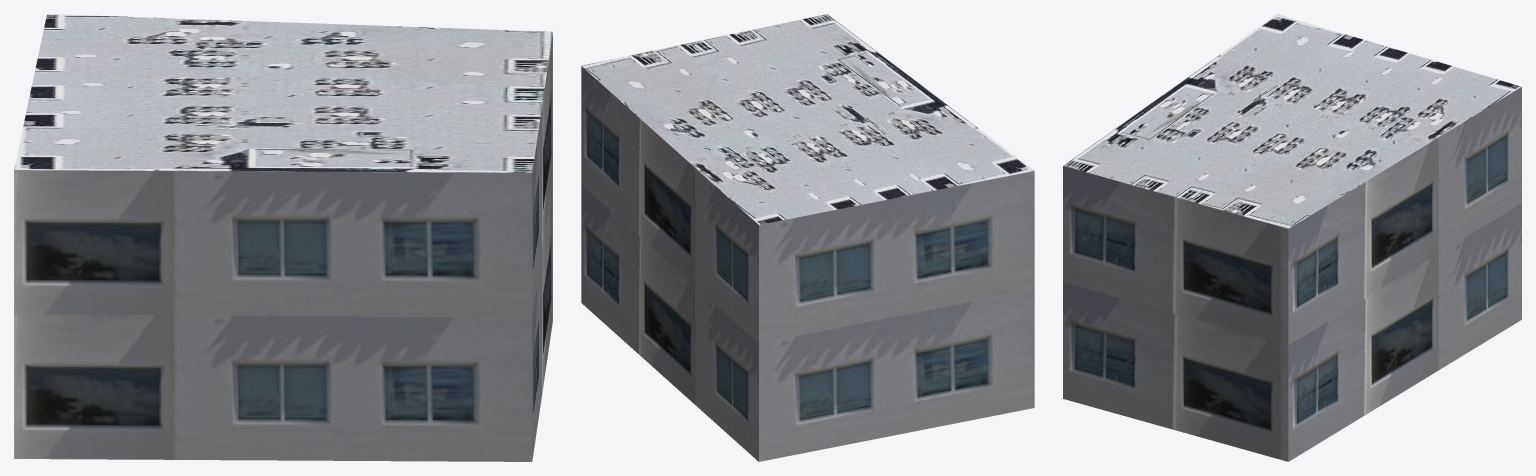
Rendered from ResTex__5002.fbx.
The picture shows the model from 3 angles, left to right: view 1: azimuth 30°, elevation 25°; view 2: azimuth 150°, elevation 25°; view 3: azimuth 270°, elevation 25°; orthographic projection. The views are drawn at different scales.
Visible parts, largest first — view 1: CityEngineMaterial_10_m, CityEngineMaterial_2_m; view 2: CityEngineMaterial_10_m, CityEngineMaterial_2_m; view 3: CityEngineMaterial_10_m, CityEngineMaterial_2_m.
Boxes of the visible parts, left/top/right/bottom form: CityEngineMaterial_10_m: left=14, top=33, right=552, bottom=461; CityEngineMaterial_2_m: left=14, top=14, right=552, bottom=172; CityEngineMaterial_10_m: left=581, top=66, right=1034, bottom=461; CityEngineMaterial_2_m: left=581, top=14, right=1034, bottom=224; CityEngineMaterial_10_m: left=1063, top=87, right=1521, bottom=461; CityEngineMaterial_2_m: left=1063, top=14, right=1521, bottom=228.
Bounding box in the file's own units: 11.87 × 6 × 10.7.
Materials: 2 (2 with a texture image).
